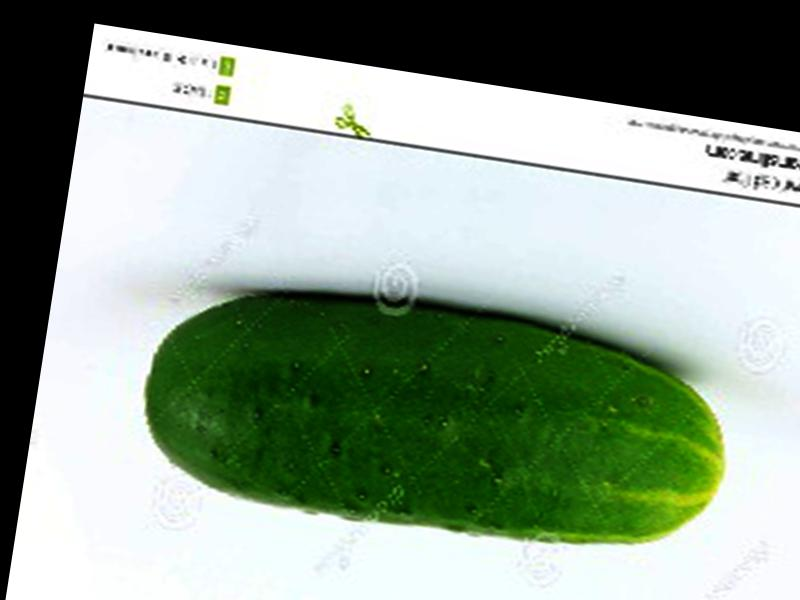Cucumber: (130, 263, 738, 569)
